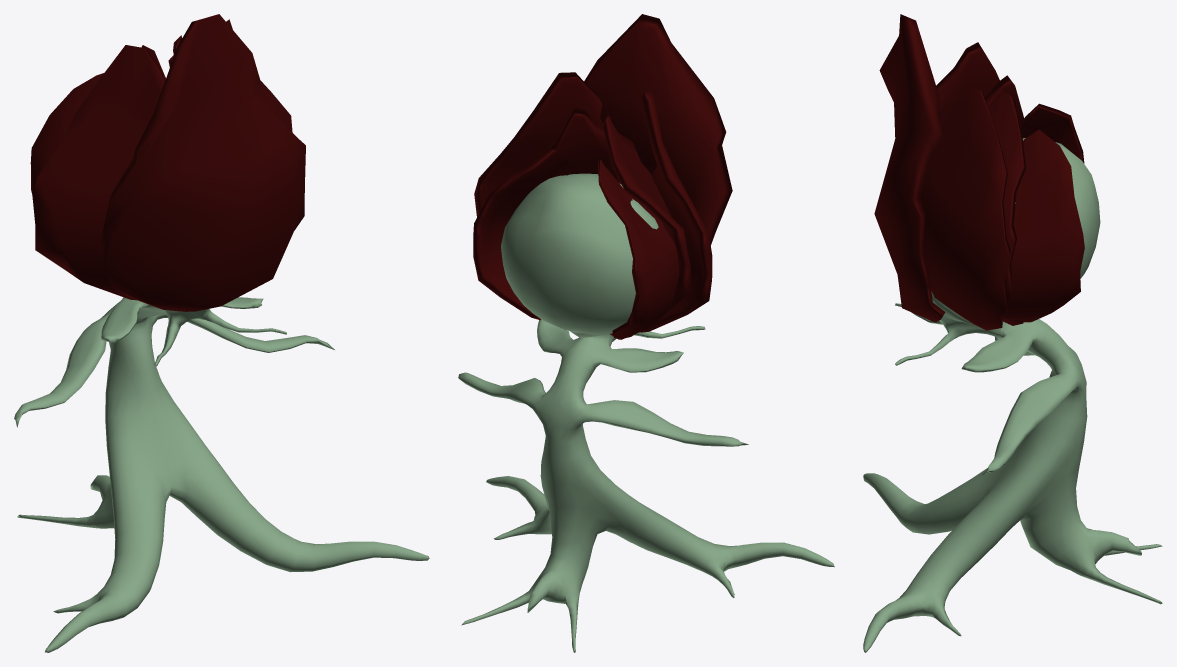
Rendered from CH_GA_prop_Plant_Rose_Hell.FBX.
3 views of the same model, side by side, from view 1: azimuth 30°, elevation 25°; view 2: azimuth 150°, elevation 25°; view 3: azimuth 270°, elevation 25° (orthographic). The views are drawn at different scales.
Visible parts, largest first — view 1: CH_GA_prop_Plant_Rose_Hell; view 2: CH_GA_prop_Plant_Rose_Hell; view 3: CH_GA_prop_Plant_Rose_Hell.
Boxes of the visible parts, <box> form: CH_GA_prop_Plant_Rose_Hell: <box>14,14,429,652</box>; CH_GA_prop_Plant_Rose_Hell: <box>458,14,834,652</box>; CH_GA_prop_Plant_Rose_Hell: <box>863,14,1162,652</box>.
Bounding box in the file's own units: 161 × 236 × 115.
